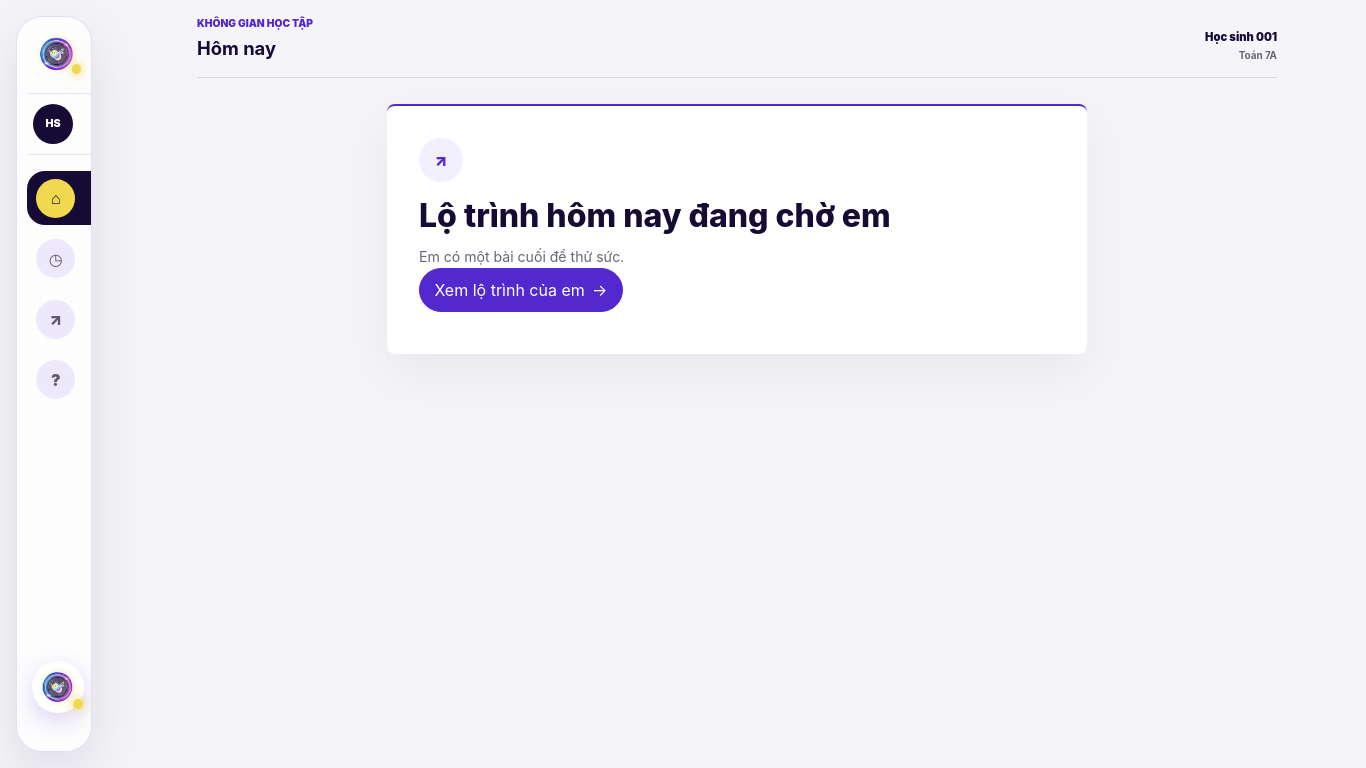
Test: StudentWorkspace › records the exit ticket after a completed remediation path
What coordinates should you click on to do the following:
click the button "Xem lộ trình của em →"
I would click on:
 (521, 290)
Its box is [419,268,623,312].
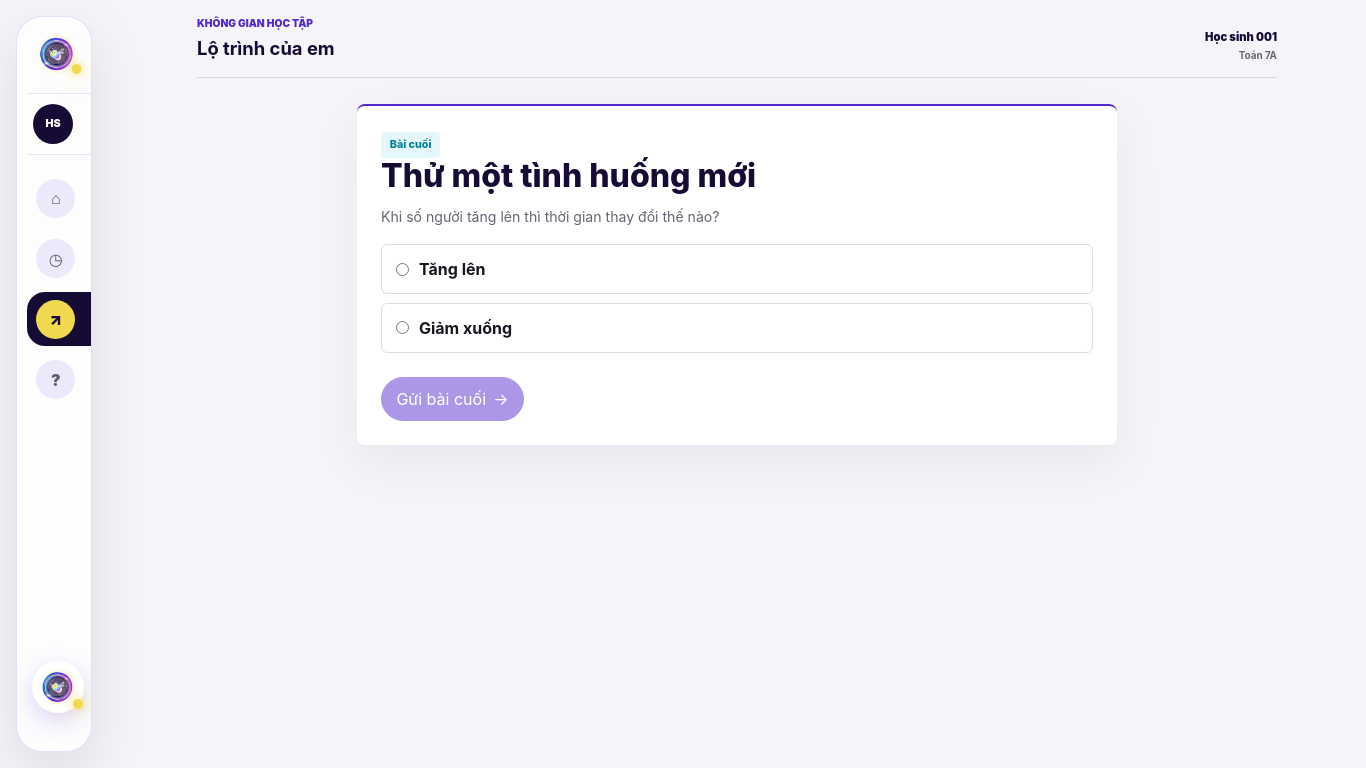
Result: the text "Khi số người tăng lên thì thời gian thay đổi thế nào?" is shown at [381,208,720,225]
What coordinates should you click on to do the following:
click the radio button labelled "Giảm xuống"
I would click on:
 (402, 328)
Its box is [396,322,409,334].
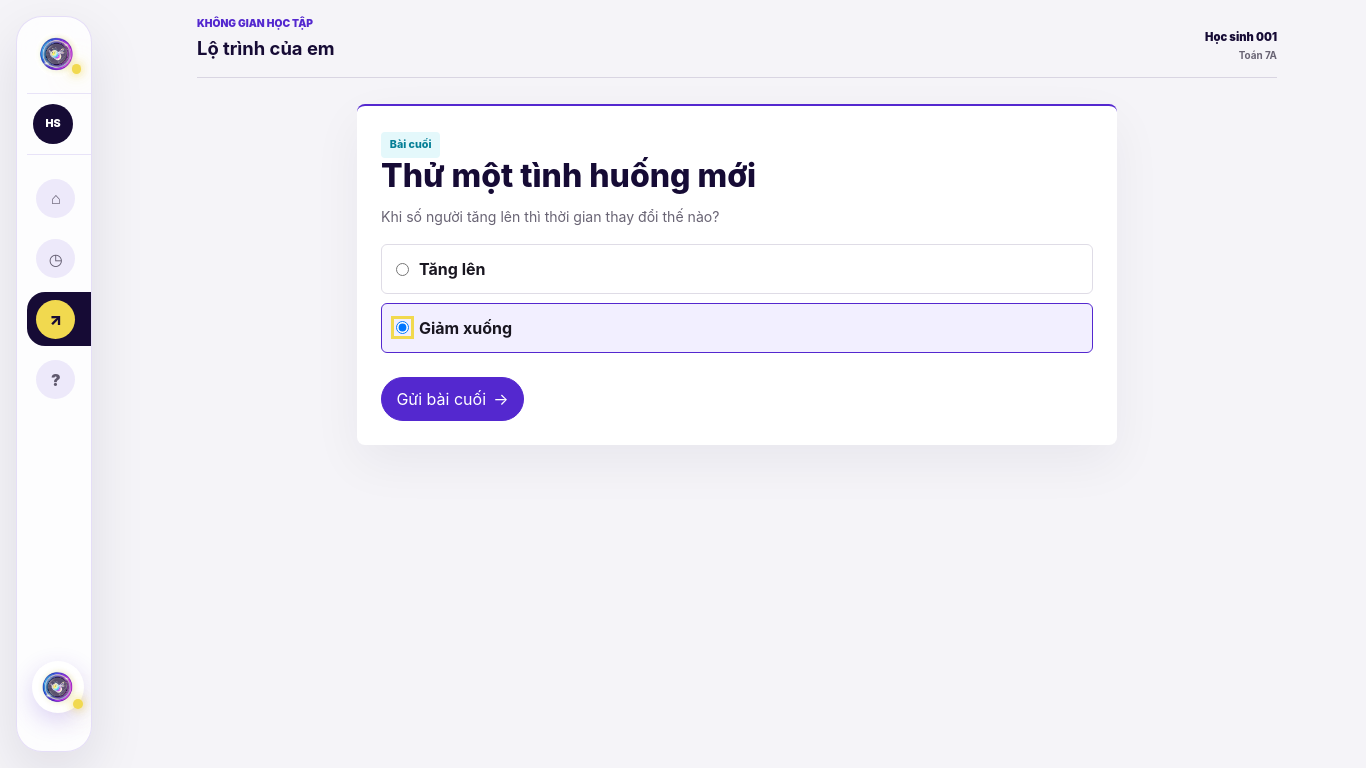
What coordinates should you click on to do the following:
click the button "Gửi bài cuối →"
I would click on:
 (452, 399)
Its box is [381,377,524,421].
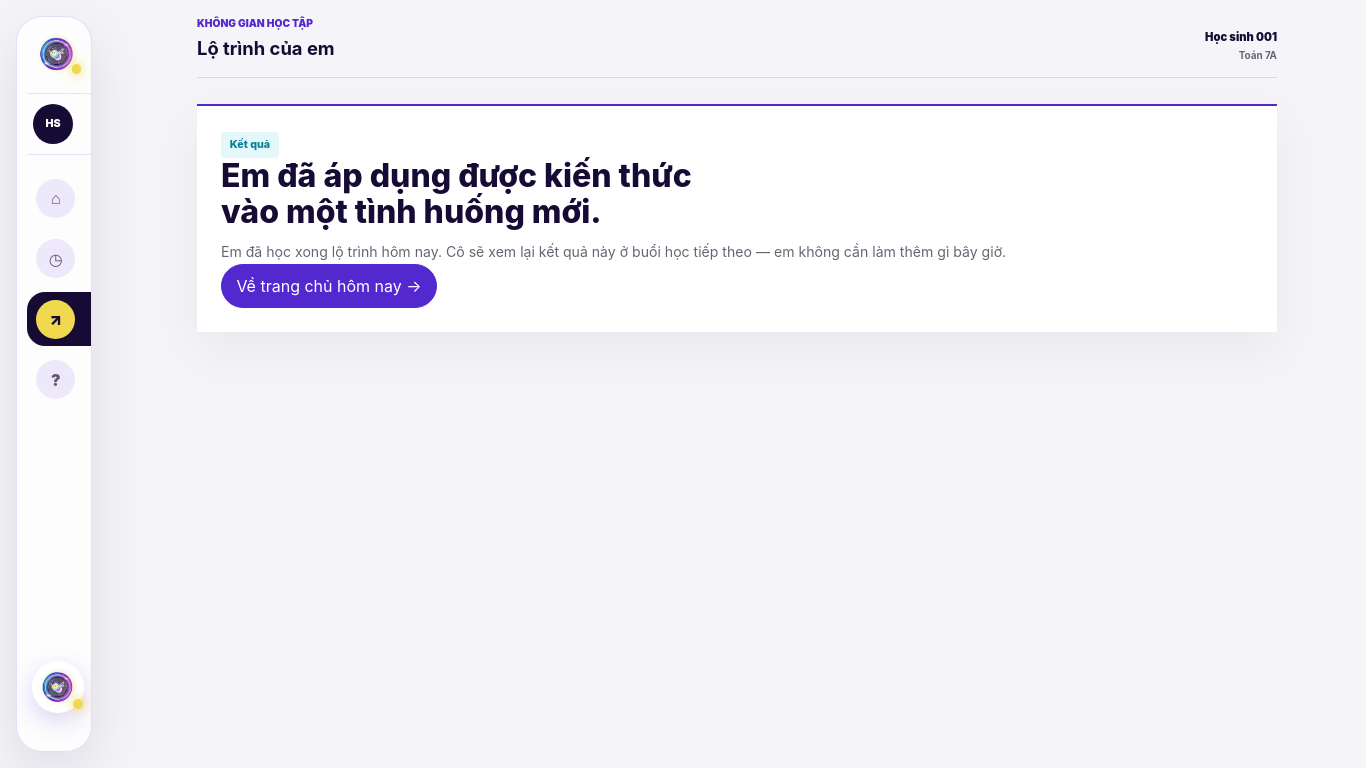
Result: the heading "Em đã áp dụng được kiến thức vào một tình huống mới." is shown at [221,158,752,230]
